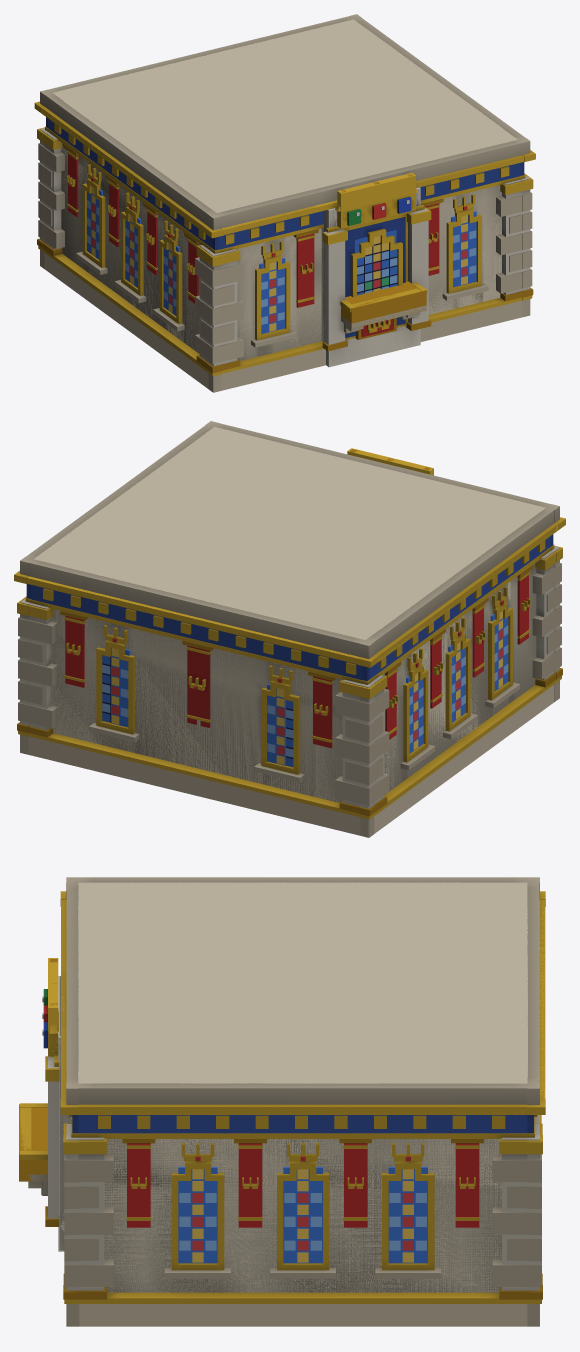
Rendered from GoldenThroneFloor.fbx.
3 views of the same model, one above another, from view 1: azimuth 30°, elevation 25°; view 2: azimuth 150°, elevation 25°; view 3: azimuth 270°, elevation 25° (orthographic). The views are drawn at different scales.
Visible parts, largest first — view 1: GT_S_All, GT_F_Smooth, GT_F_Rings, GT_F_Glass, GT_F_Quiet, GT_F_Props; view 2: GT_S_All, GT_F_Rings, GT_F_Smooth, GT_F_Glass, GT_F_Quiet; view 3: GT_S_All, GT_F_Rings, GT_F_Smooth, GT_F_Glass.
Part boxes in pixels (x1,y1,x2,y2): GT_S_All: (41, 19, 523, 392); GT_F_Smooth: (34, 101, 535, 376); GT_F_Rings: (40, 14, 530, 392); GT_F_Glass: (87, 187, 476, 333); GT_F_Quiet: (298, 203, 438, 337); GT_F_Props: (335, 174, 417, 228); GT_S_All: (20, 427, 558, 835); GT_F_Rings: (20, 421, 559, 837); GT_F_Smooth: (14, 517, 565, 819); GT_F_Glass: (102, 611, 508, 767); GT_F_Quiet: (65, 616, 330, 719); GT_S_All: (19, 882, 545, 1326); GT_F_Rings: (42, 877, 539, 1326); GT_F_Smooth: (19, 891, 545, 1303); GT_F_Glass: (179, 1169, 426, 1262).
Size of the model in its own units: 42 by 20 by 42.
